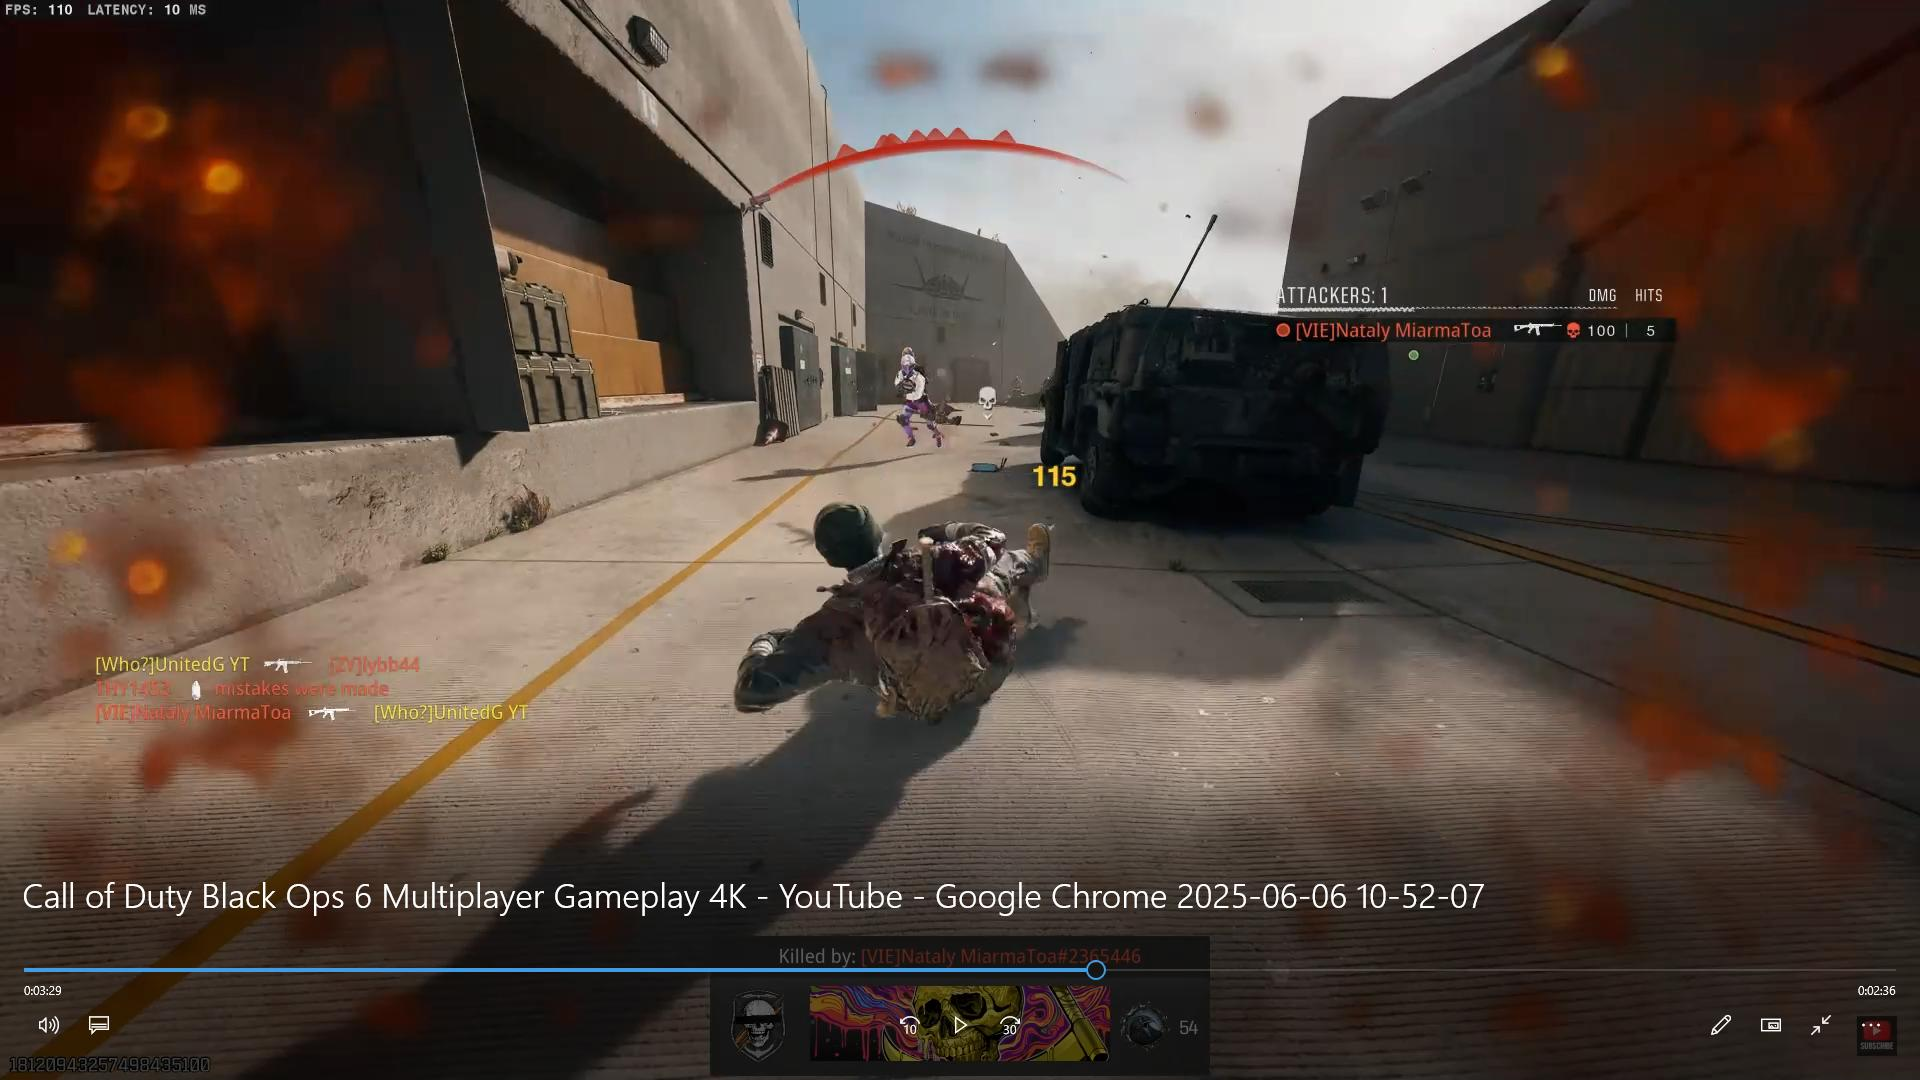Enemy: (876, 338, 959, 467)
